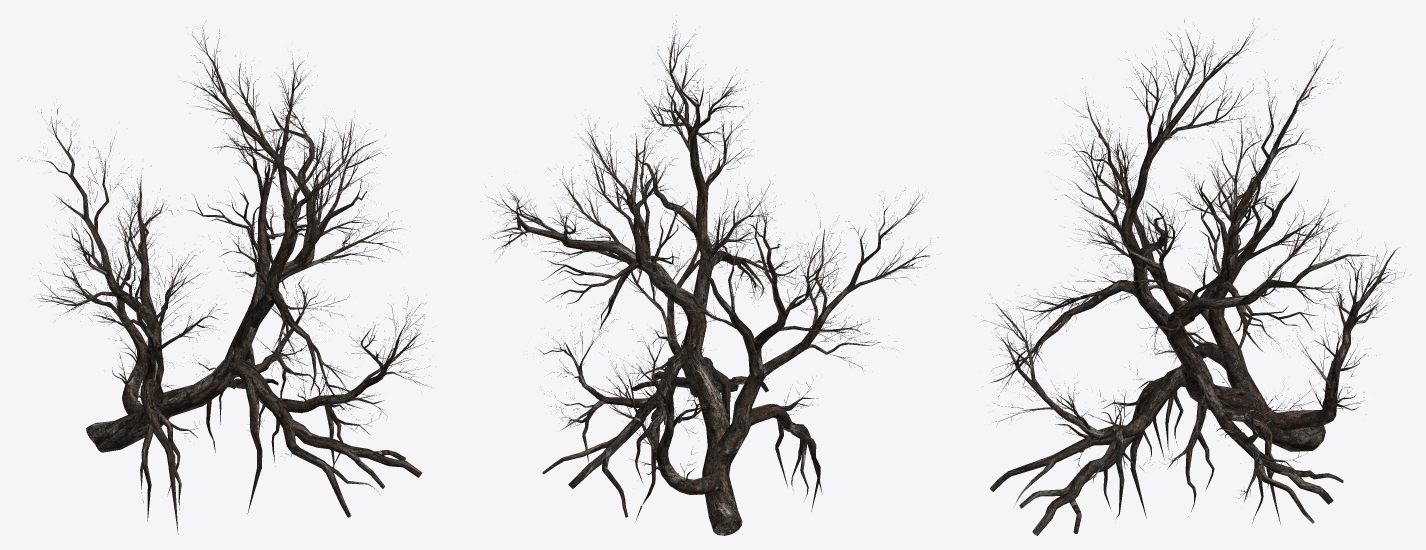
The model's file is tree_dead_04.glb.
3 views of the same model, side by side, from view 1: azimuth 30°, elevation 25°; view 2: azimuth 150°, elevation 25°; view 3: azimuth 270°, elevation 25° (orthographic). The views are drawn at different scales.
Visible parts, largest first — view 1: dead_tree_dead_tree_mat_0; view 2: dead_tree_dead_tree_mat_0; view 3: dead_tree_dead_tree_mat_0.
Part boxes in pixels (bbox=[...]): dead_tree_dead_tree_mat_0: bbox=[21, 20, 433, 534]; dead_tree_dead_tree_mat_0: bbox=[483, 15, 937, 535]; dead_tree_dead_tree_mat_0: bbox=[979, 19, 1404, 535].
Bounding box in the file's own units: 9.34 × 11 × 8.64.
1 material, 1 textured.
